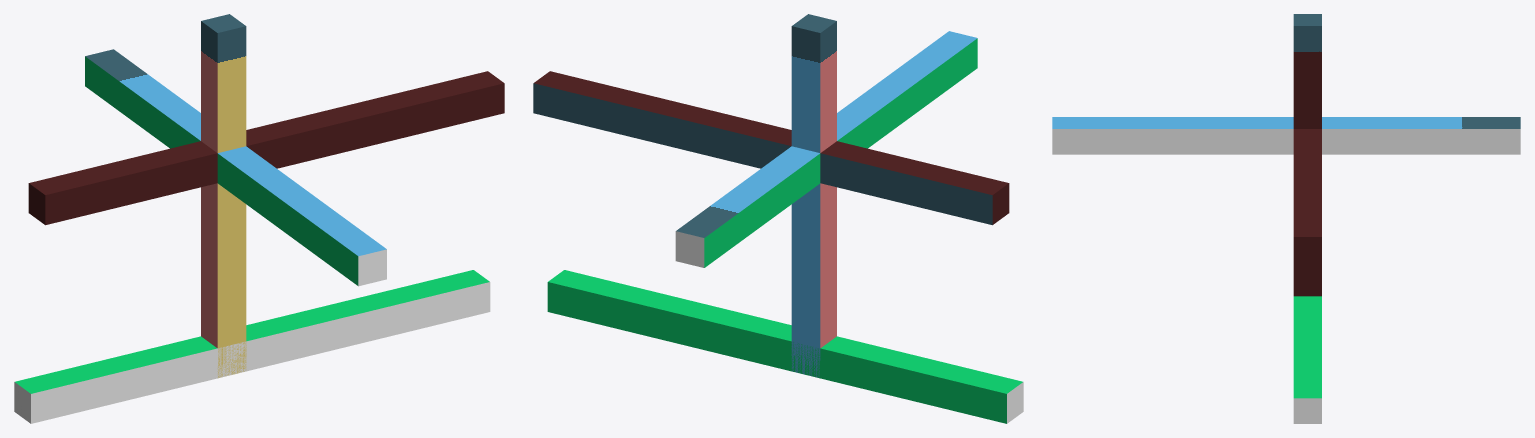
The picture shows the model from 3 angles, left to right: view 1: azimuth 30°, elevation 25°; view 2: azimuth 150°, elevation 25°; view 3: azimuth 270°, elevation 25°; orthographic projection. The views are drawn at different scales.
Parts seen in each view (by area): view 1: cube (×4); view 2: cube (×4); view 3: cube (×4).
Boxes of the visible parts, bbox=[...] form: cube (×4): bbox=[14, 14, 504, 423]; cube (×4): bbox=[533, 14, 1023, 423]; cube (×4): bbox=[1052, 14, 1520, 423].
Size of the model in its own units: 2.06 by 1.44 by 2.06.
Materials: 4 (2 with a texture image).
